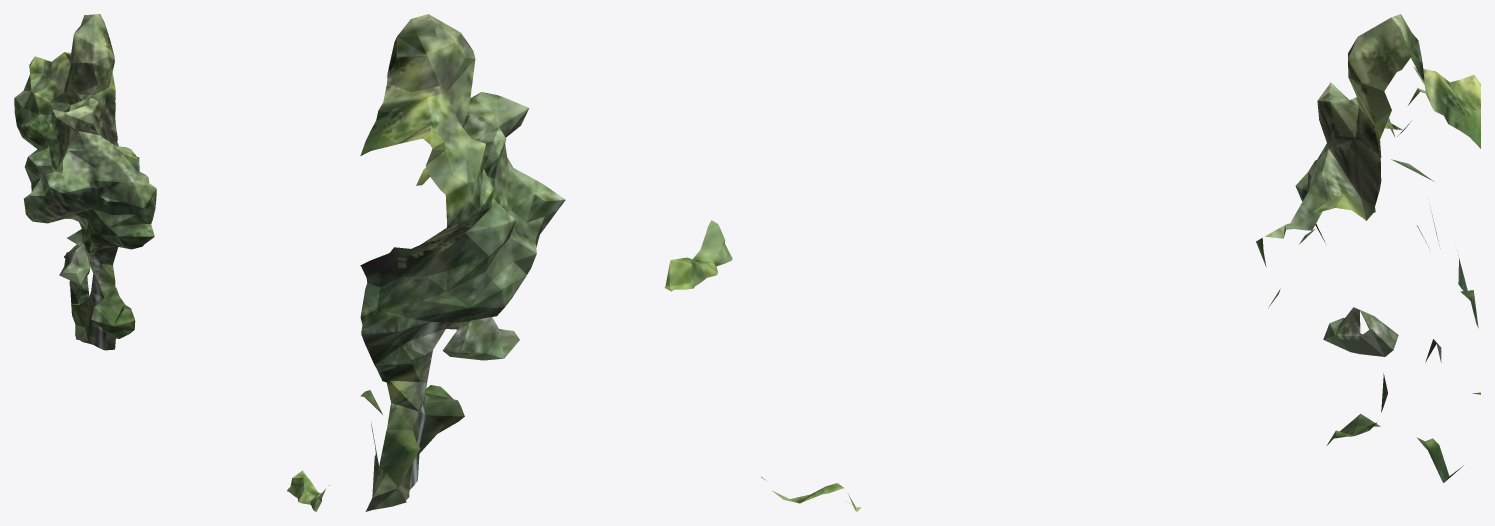
The picture shows the model from 3 angles, left to right: view 1: azimuth 30°, elevation 25°; view 2: azimuth 150°, elevation 25°; view 3: azimuth 270°, elevation 25°; orthographic projection. The views are drawn at different scales.
Size of the model in its own units: 5.35 by 19.31 by 26.11.
Materials: 1 (1 with a texture image).
